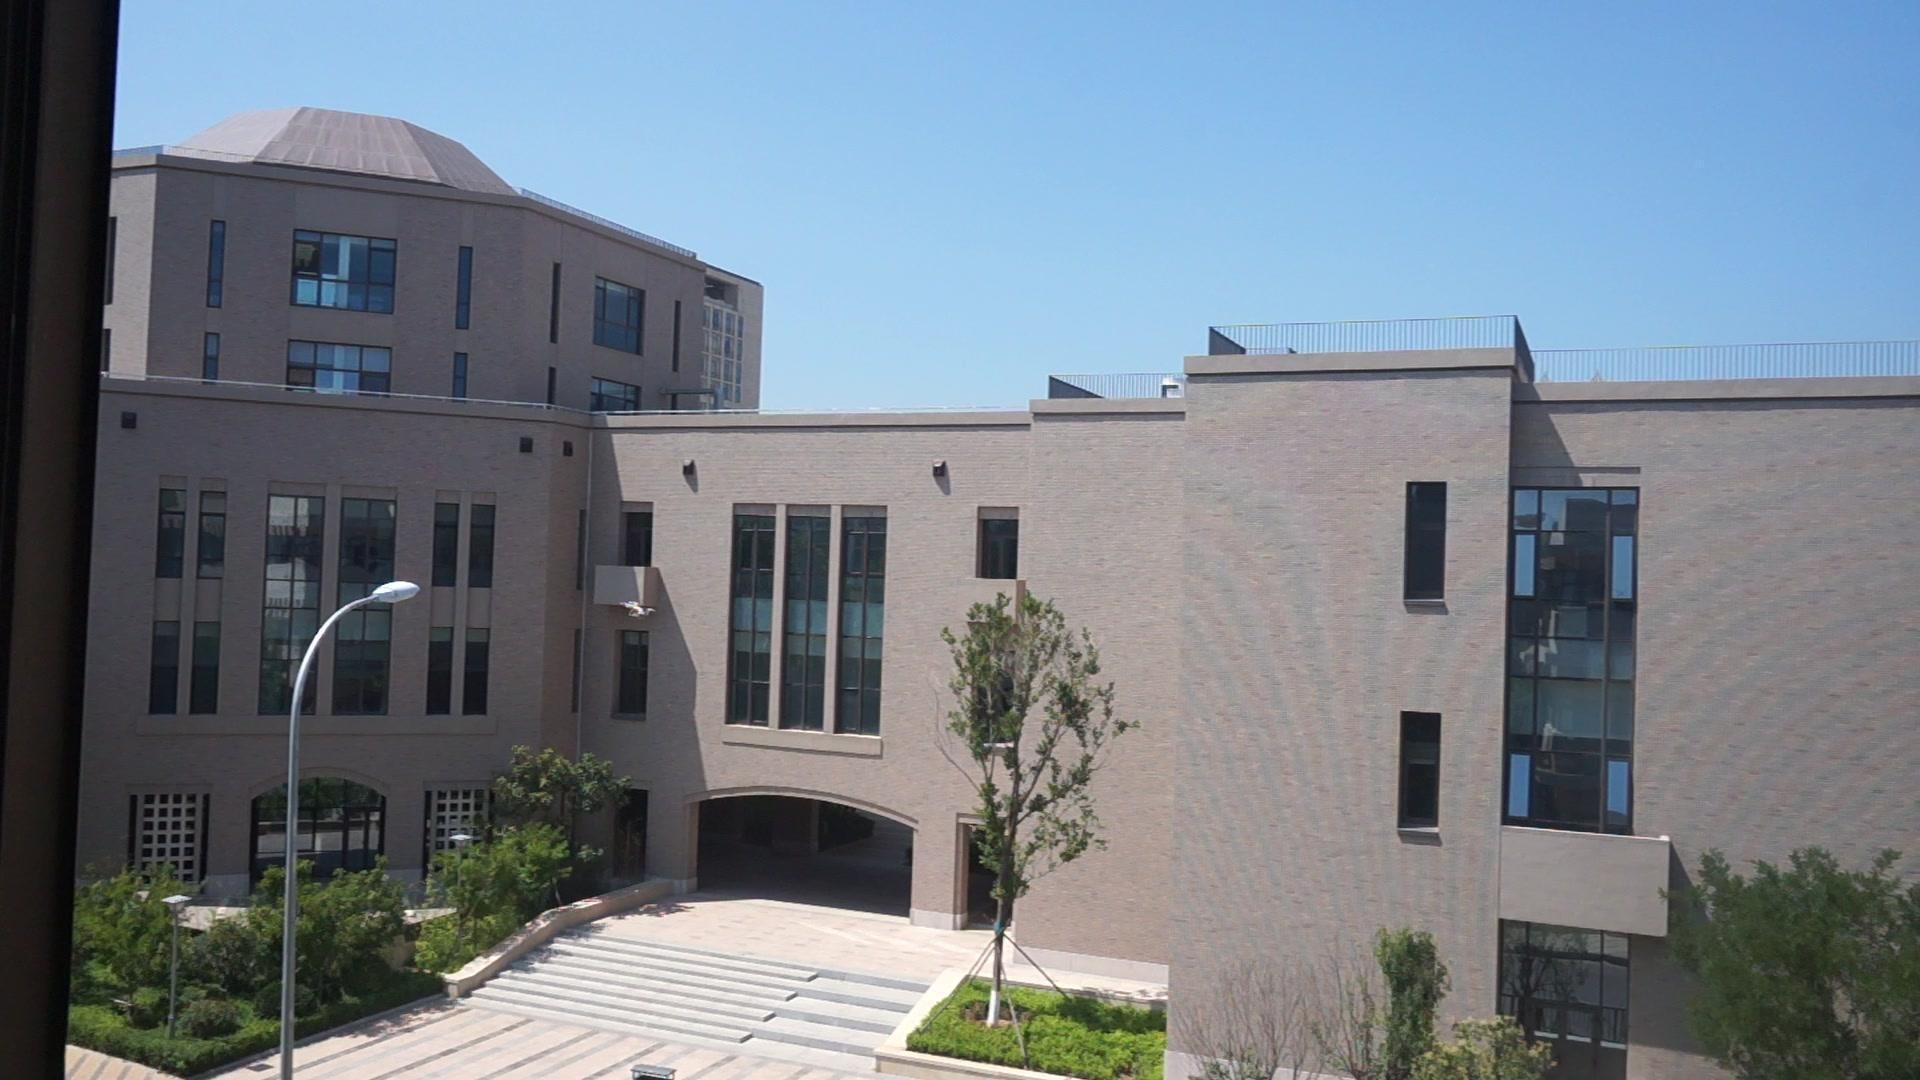UAV: (621, 603, 655, 618)
